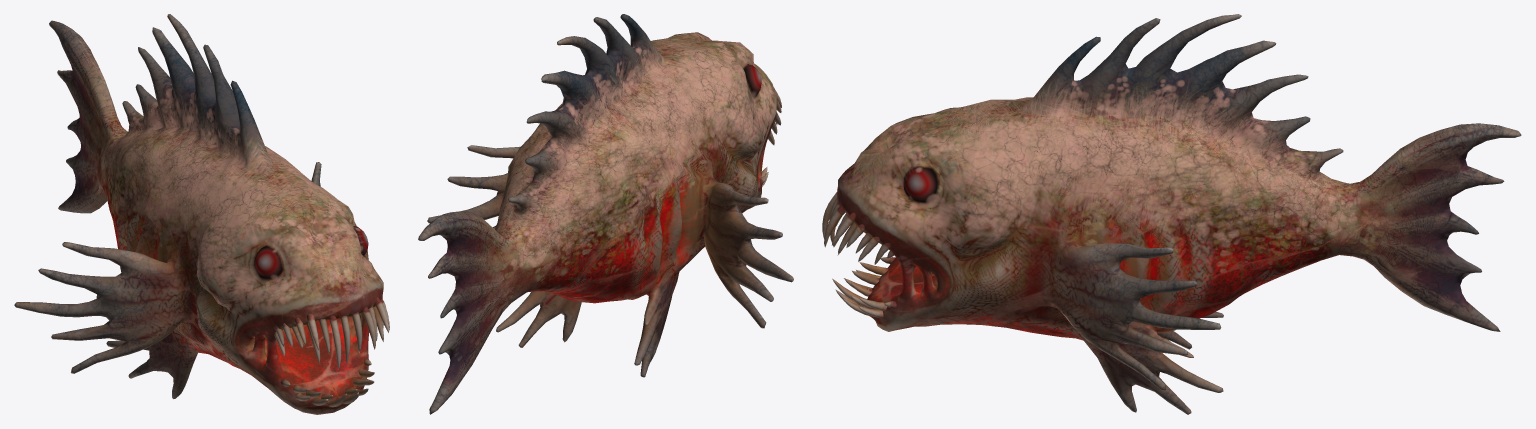
Rendered from fish pir.obj.
The picture shows the model from 3 angles, left to right: view 1: azimuth 30°, elevation 25°; view 2: azimuth 150°, elevation 25°; view 3: azimuth 270°, elevation 25°; orthographic projection. The views are drawn at different scales.
Visible parts, largest first — view 1: LOU.022; view 2: LOU.022; view 3: LOU.022.
Part boxes in pixels (x1,y1,x2,y2): LOU.022: (14, 14, 389, 414); LOU.022: (418, 14, 793, 414); LOU.022: (822, 14, 1521, 414).
Bounding box in the file's own units: 2.27 × 2.23 × 3.75.
